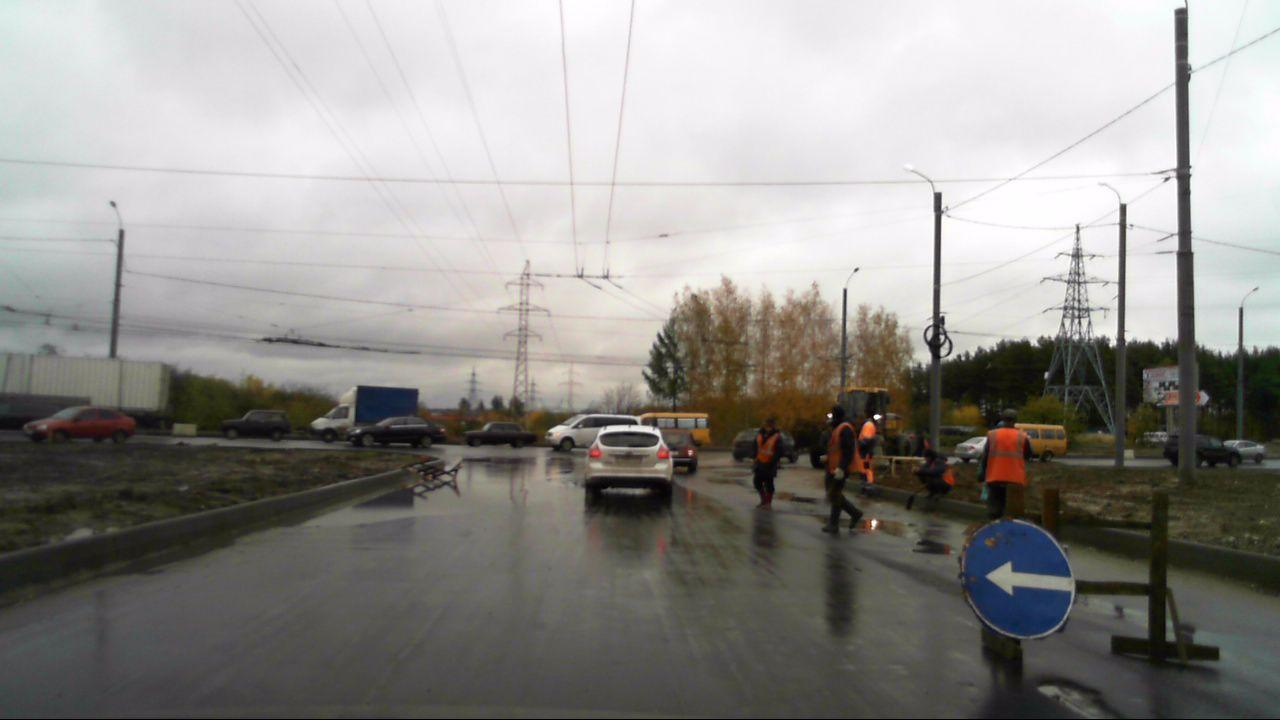4_2_2: (959, 516, 1079, 641)
